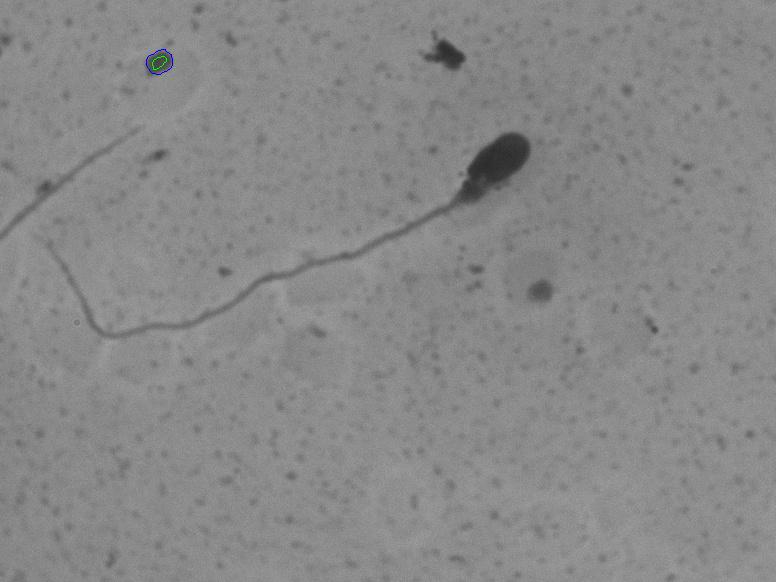Abnormal: (32, 103, 546, 372)
